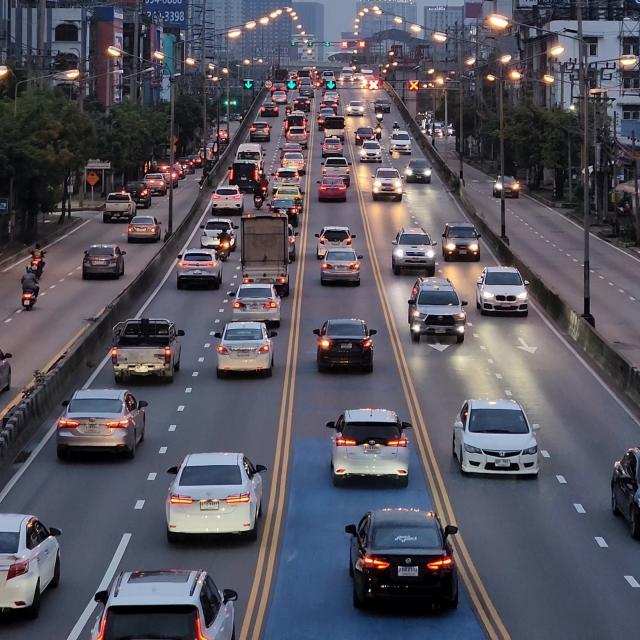Car: (344, 506, 459, 613), (91, 567, 238, 639), (164, 451, 267, 543), (451, 397, 540, 477), (325, 407, 412, 488), (55, 387, 148, 459), (0, 512, 62, 618), (312, 317, 377, 372), (475, 265, 529, 316), (610, 446, 639, 539), (81, 243, 126, 279), (0, 348, 12, 392)
Motorcycle: (20, 276, 39, 310)
